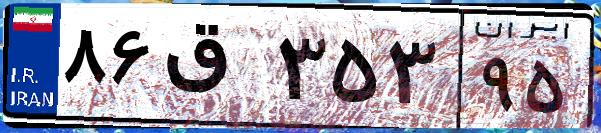3: (270, 28, 330, 110), (385, 28, 445, 110)
5: (330, 28, 385, 110), (525, 38, 570, 115)
6: (110, 28, 158, 98)
8: (57, 26, 110, 100)
9: (475, 38, 525, 113)
ق: (158, 20, 270, 120)
